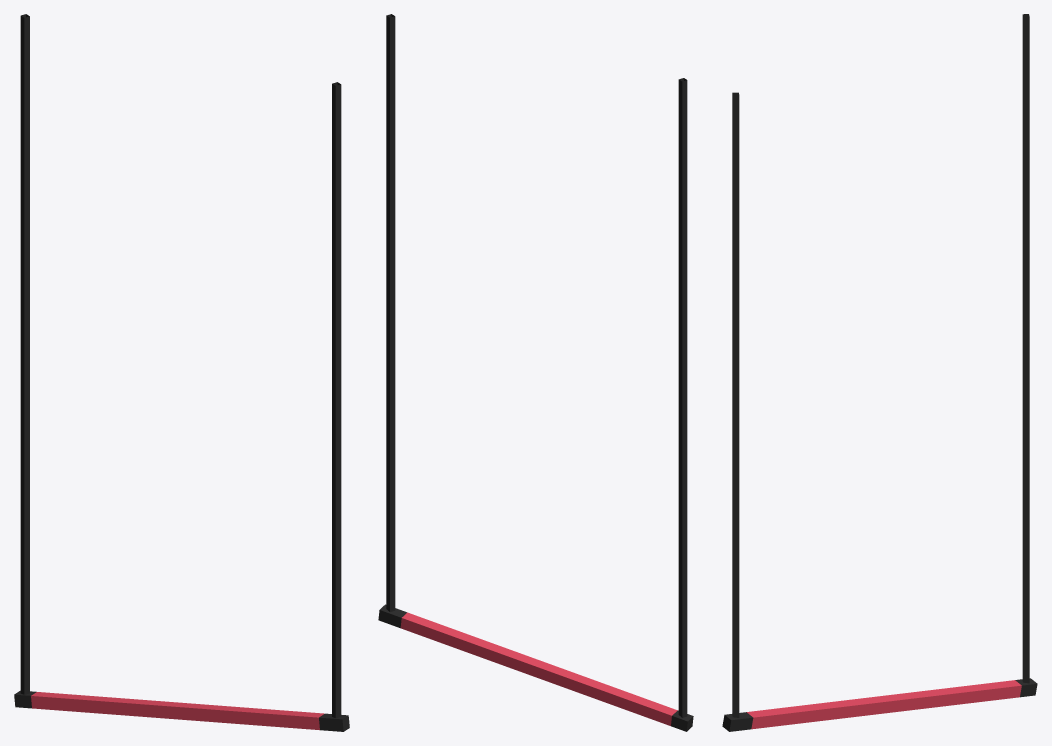
Rendered from Neon_02.fbx.
3 views of the same model, side by side, from view 1: azimuth 30°, elevation 25°; view 2: azimuth 210°, elevation 25°; view 3: azimuth 270°, elevation 25° (orthographic). The views are drawn at different scales.
Visible parts, largest first — view 1: Neon_02; view 2: Neon_02; view 3: Neon_02.
Boxes of the visible parts, x1=… form: Neon_02: x1=14, y1=14, x2=349, y2=731; Neon_02: x1=378, y1=14, x2=693, y2=731; Neon_02: x1=722, y1=14, x2=1037, y2=731.
Bounding box in the file's own units: 196 × 466 × 129.
